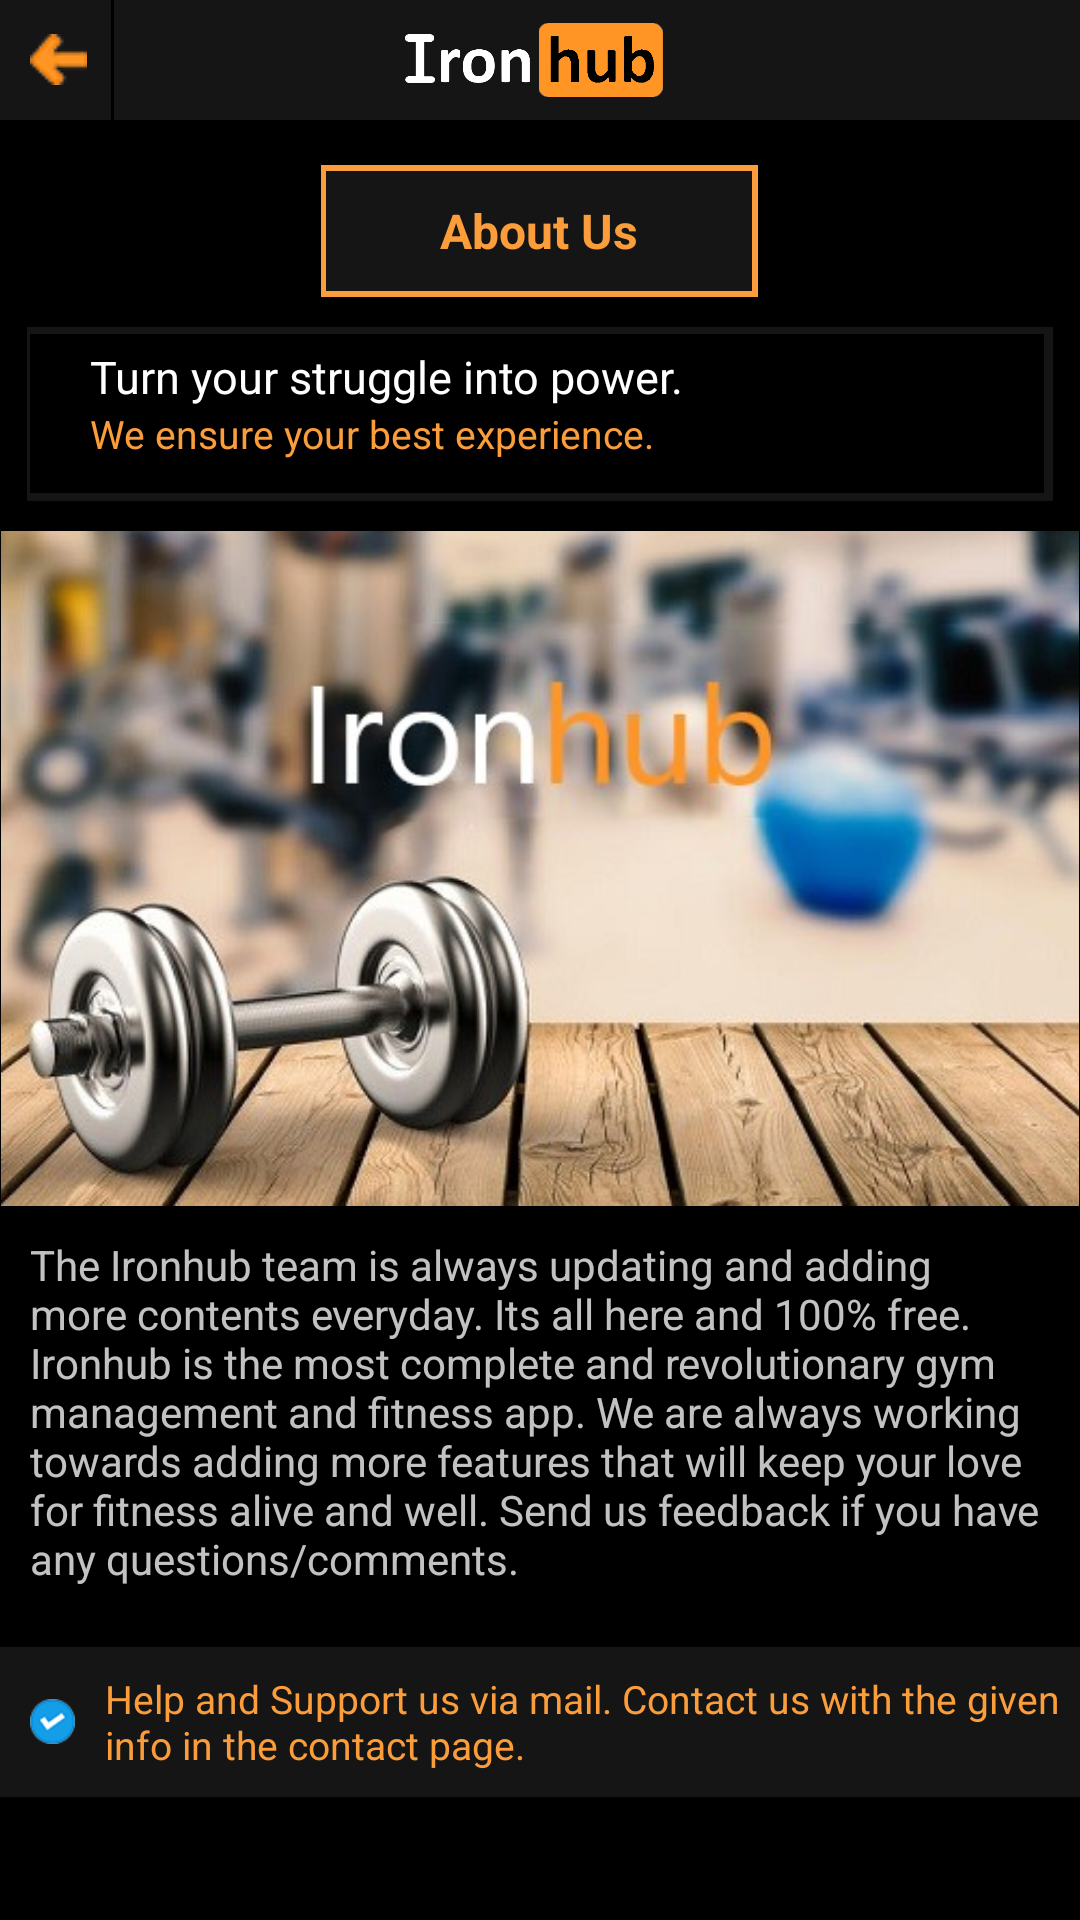

Where icons sit on this 1080 x 1920 app screen, as [x1=x1, y1=y1, x2=x2, y2=y2]:
backbutton: [x1=30, y1=34, x2=87, y2=85]
tick: [x1=30, y1=1699, x2=75, y2=1744]
